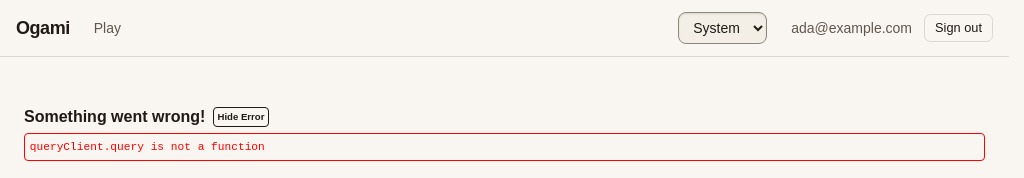
Test case: AppShell › reports a failed sign-out and keeps the user signed in
The width and height of the screenshot is (1024, 178).
What coordinates should you click on to do the following:
click the button "Sign out"
I would click on:
 (958, 28)
Its box is [924,14,993,42].
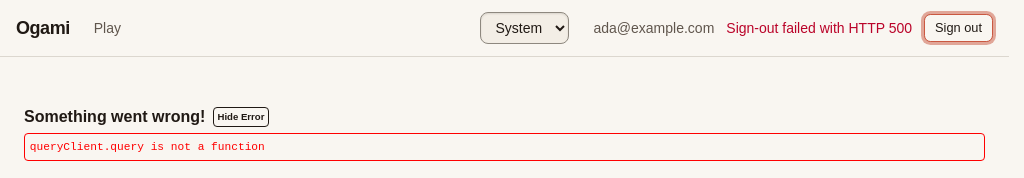
Check: the text "ada@example.com" is shown, box [594,18,714,38]
Check: the message shows "Sign-out failed", box [726,20,912,36]
